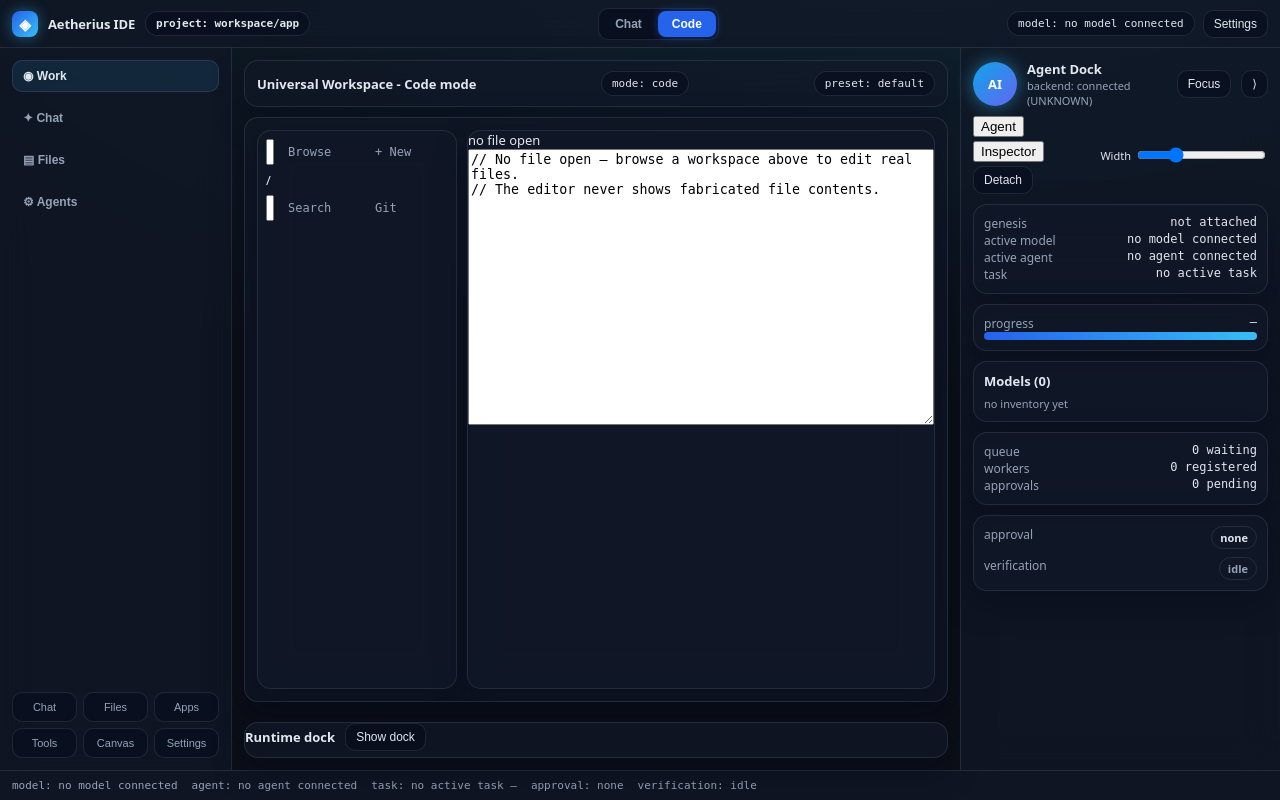
Test: chat/work parity › chat send records locally without backend execution
The width and height of the screenshot is (1280, 800).
Expected: the text with test id "backend-state" shows "backend:", [1027, 78, 1131, 108]
Click the button with test id "mode-chat-btn". click: click(628, 24)
box: [601, 10, 656, 36]
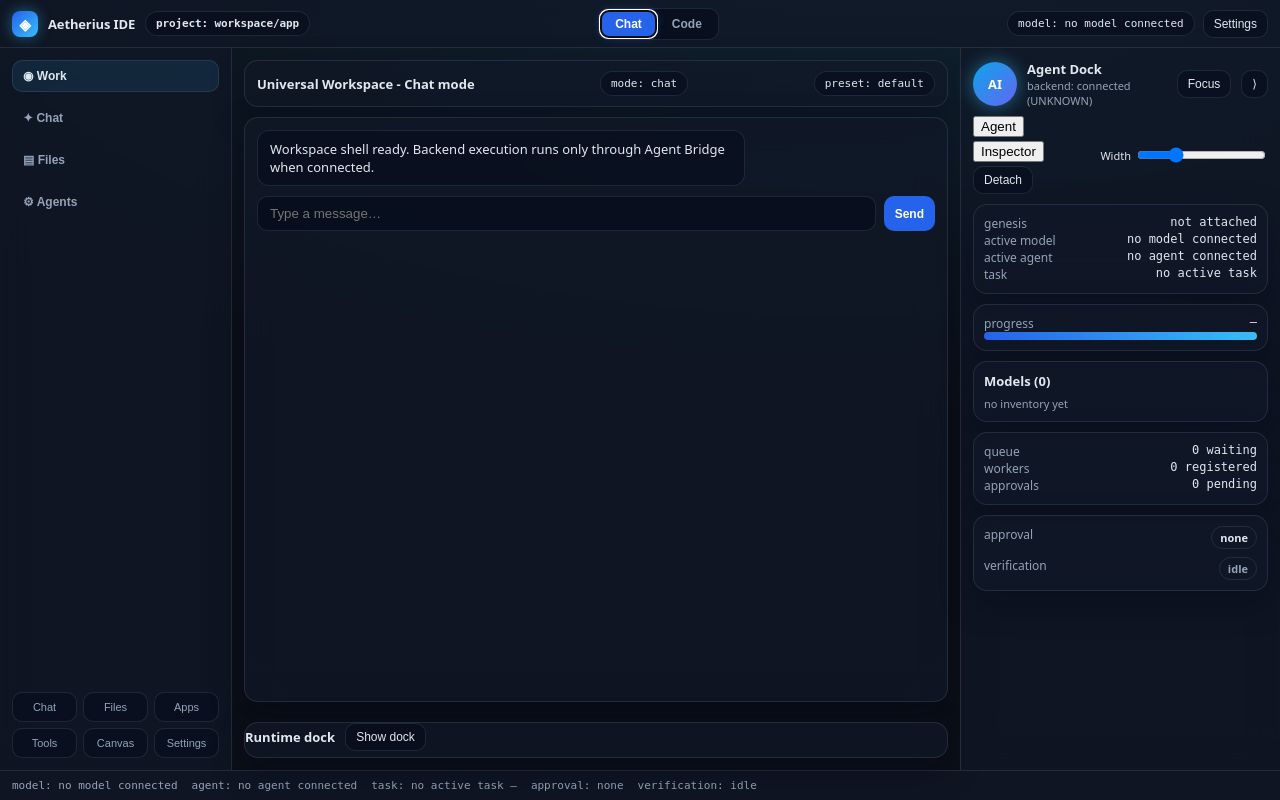
Type "hello parity" into the field with test id "chat-input". click: (566, 214)
box: [257, 196, 876, 231]
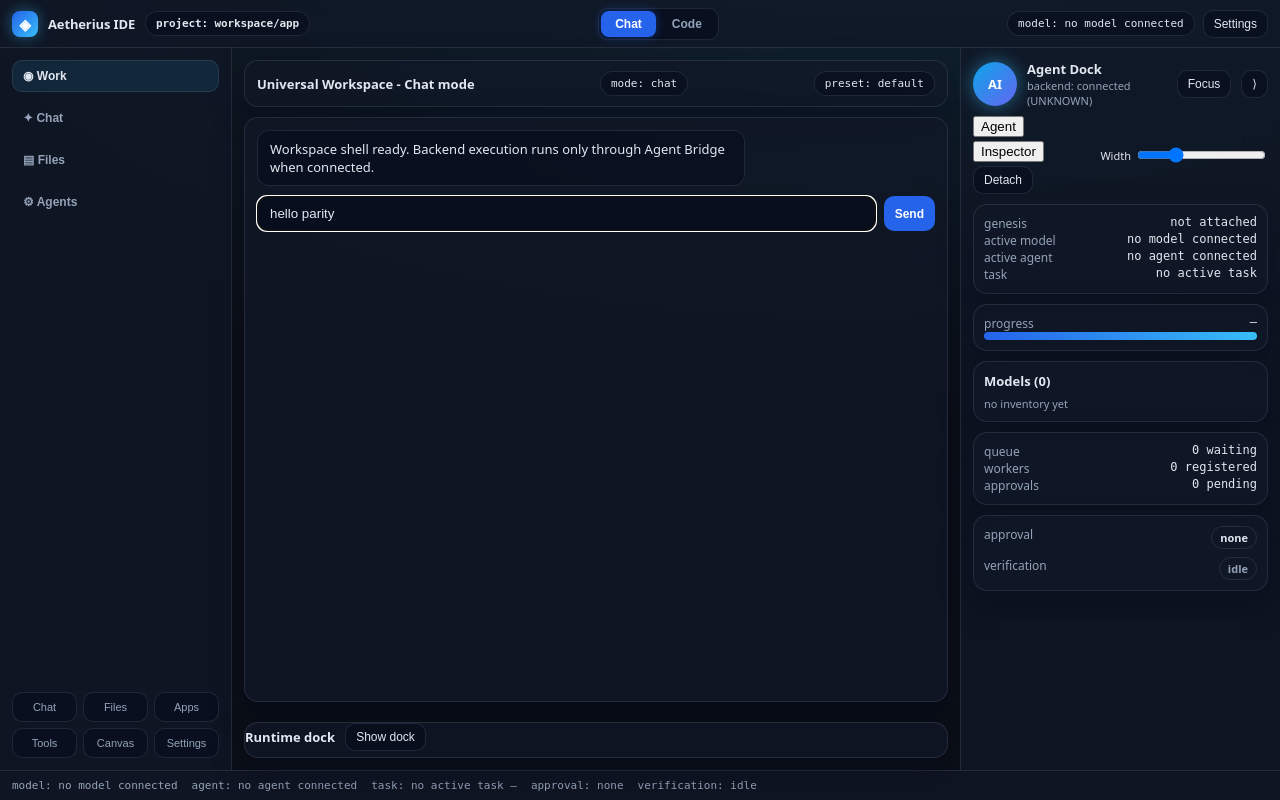
Click the button with test id "chat-send". click: click(909, 214)
box: [884, 196, 935, 231]
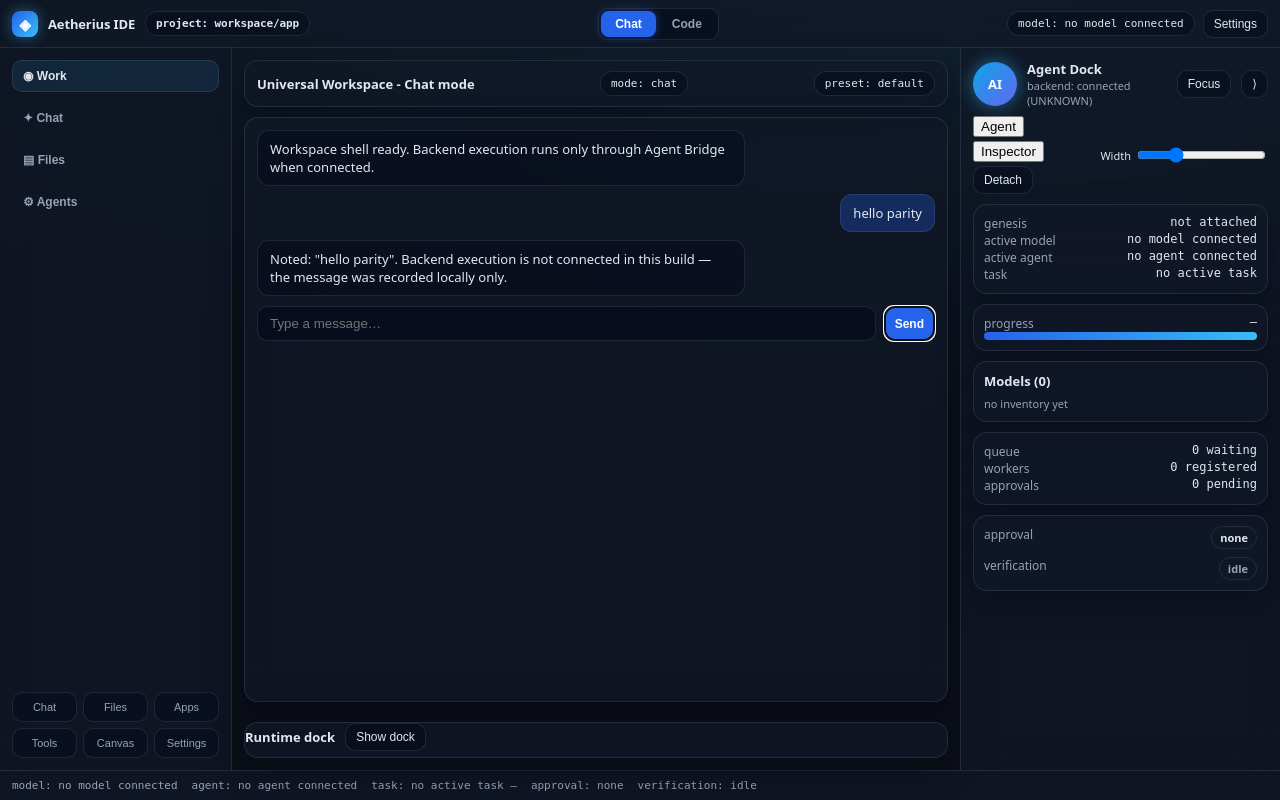
Expected: the element with test id "chat-log" shows "hello parity", [853, 204, 922, 222]
Expected: the element with test id "chat-log" shows "not connected", [270, 250, 711, 286]
